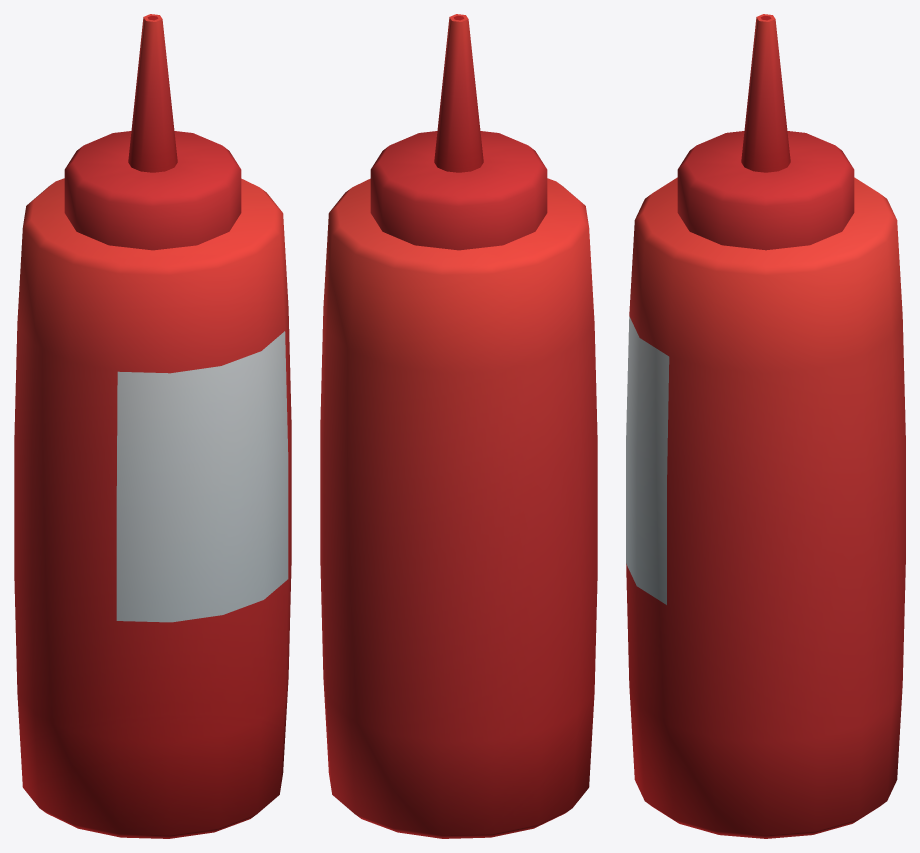
File: sauce_001.fbx
3 views of the same model, side by side, from view 1: azimuth 30°, elevation 25°; view 2: azimuth 150°, elevation 25°; view 3: azimuth 270°, elevation 25° (orthographic).
Parts seen in each view (by area): view 1: sauce_001; view 2: sauce_001; view 3: sauce_001.
Part boxes in pixels (x1,y1,x2,y2): sauce_001: (14,14,291,838); sauce_001: (320,14,597,838); sauce_001: (626,14,905,838).
Size of the model in its own units: 8.74 by 8.74 by 26.51.
